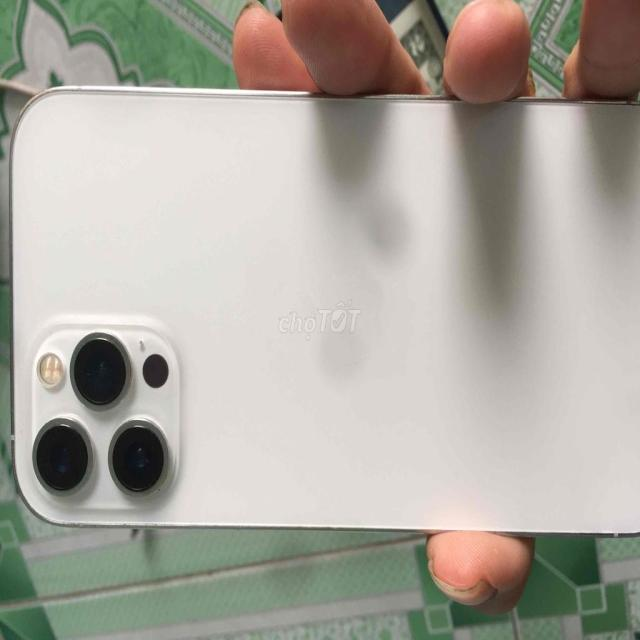gen_12_13: (11, 71, 640, 559)
